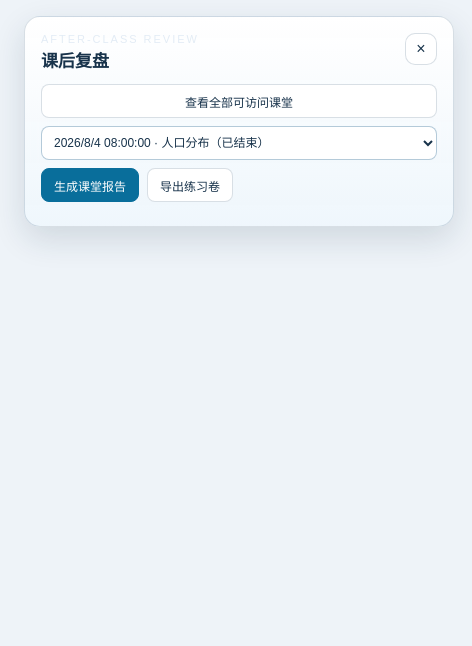
labels a projection without responses as uncollected instead of drawing zero-percent bars
Click the button with test id "generate-report" at x=90, y=185, box [41,168,139,202]
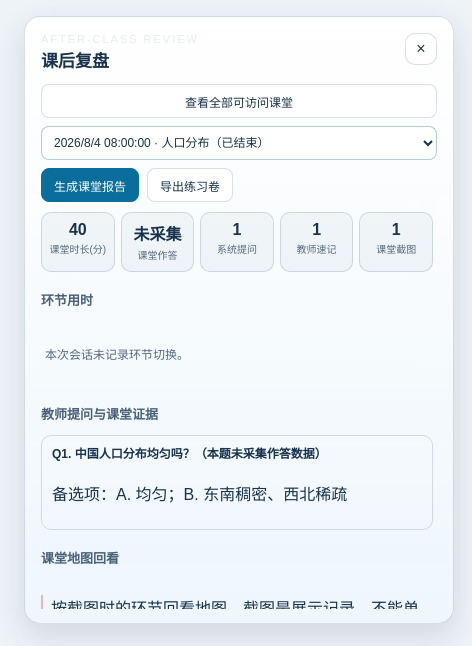
Result: the text "Q1. 中国人口分布均匀吗？（本题未采集作答数据）" is shown at [52,447,327,461]
